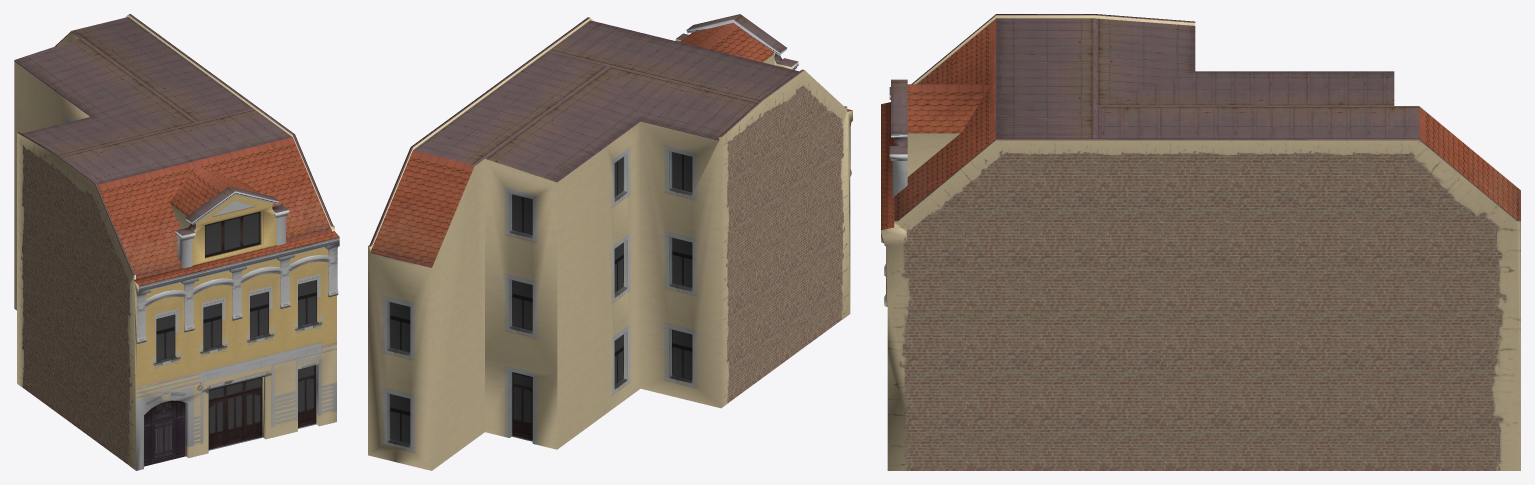
The picture shows the model from 3 angles, left to right: view 1: azimuth 30°, elevation 25°; view 2: azimuth 150°, elevation 25°; view 3: azimuth 270°, elevation 25°; orthographic projection. The views are drawn at different scales.
Parts seen in each view (by area): view 1: Haus_Material_0; view 2: Haus_Material_0; view 3: Haus_Material_0.
Part boxes in pixels (x1,y1,x2,y2): Haus_Material_0: (14, 14, 339, 470); Haus_Material_0: (368, 14, 852, 470); Haus_Material_0: (881, 14, 1520, 470).
Size of the model in its own units: 1627 by 1988 by 3484.
1 material, 1 textured.
